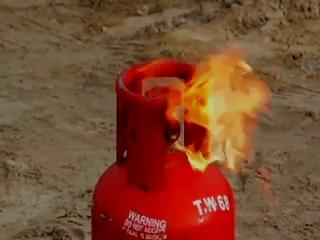Fire: (128, 42, 278, 179)
